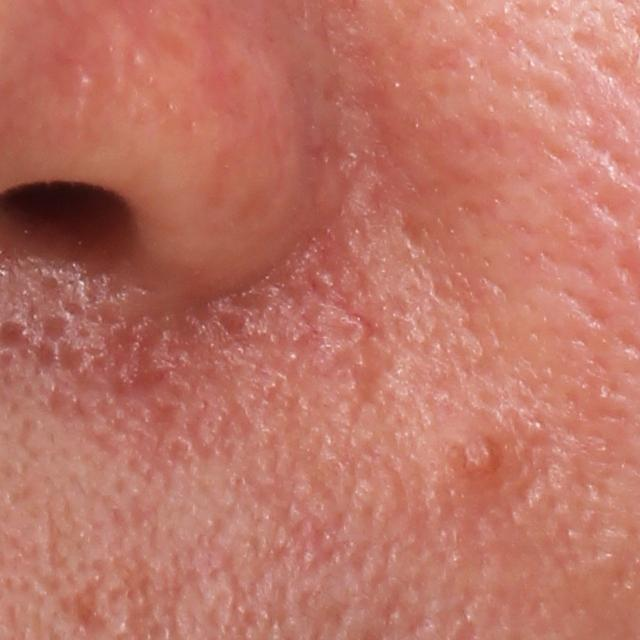atrophic_scar: (89, 319, 169, 401), (330, 338, 397, 429), (61, 553, 116, 639), (43, 506, 68, 575)
papule: (443, 430, 511, 489)
